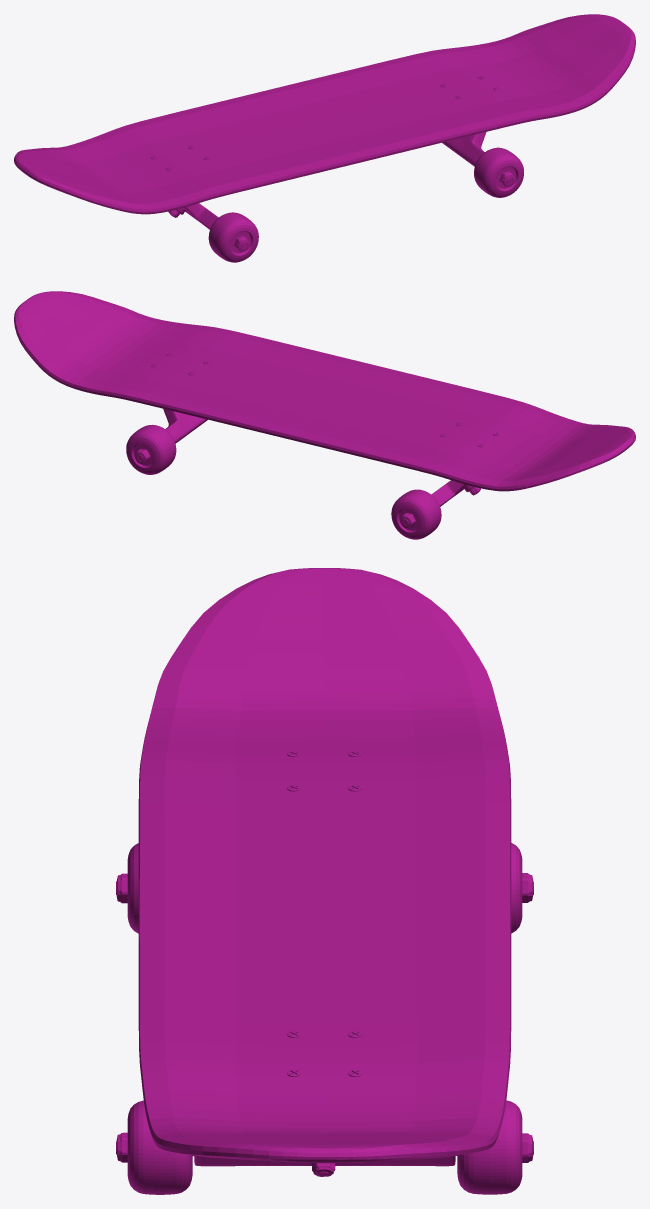
Rendered from skateboard.obj.
3 renders of one model, top to bottom at view 1: azimuth 30°, elevation 25°; view 2: azimuth 150°, elevation 25°; view 3: azimuth 270°, elevation 25°, orthographic. The views are drawn at different scales.
Parts seen in each view (by area): view 1: skateboard; view 2: skateboard; view 3: skateboard.
Boxes of the visible parts, <box> form: skateboard: <box>14,14,635,262</box>; skateboard: <box>14,291,635,539</box>; skateboard: <box>116,568,533,1194</box>.
Bounding box in the file's own units: 749 × 121 × 226.
